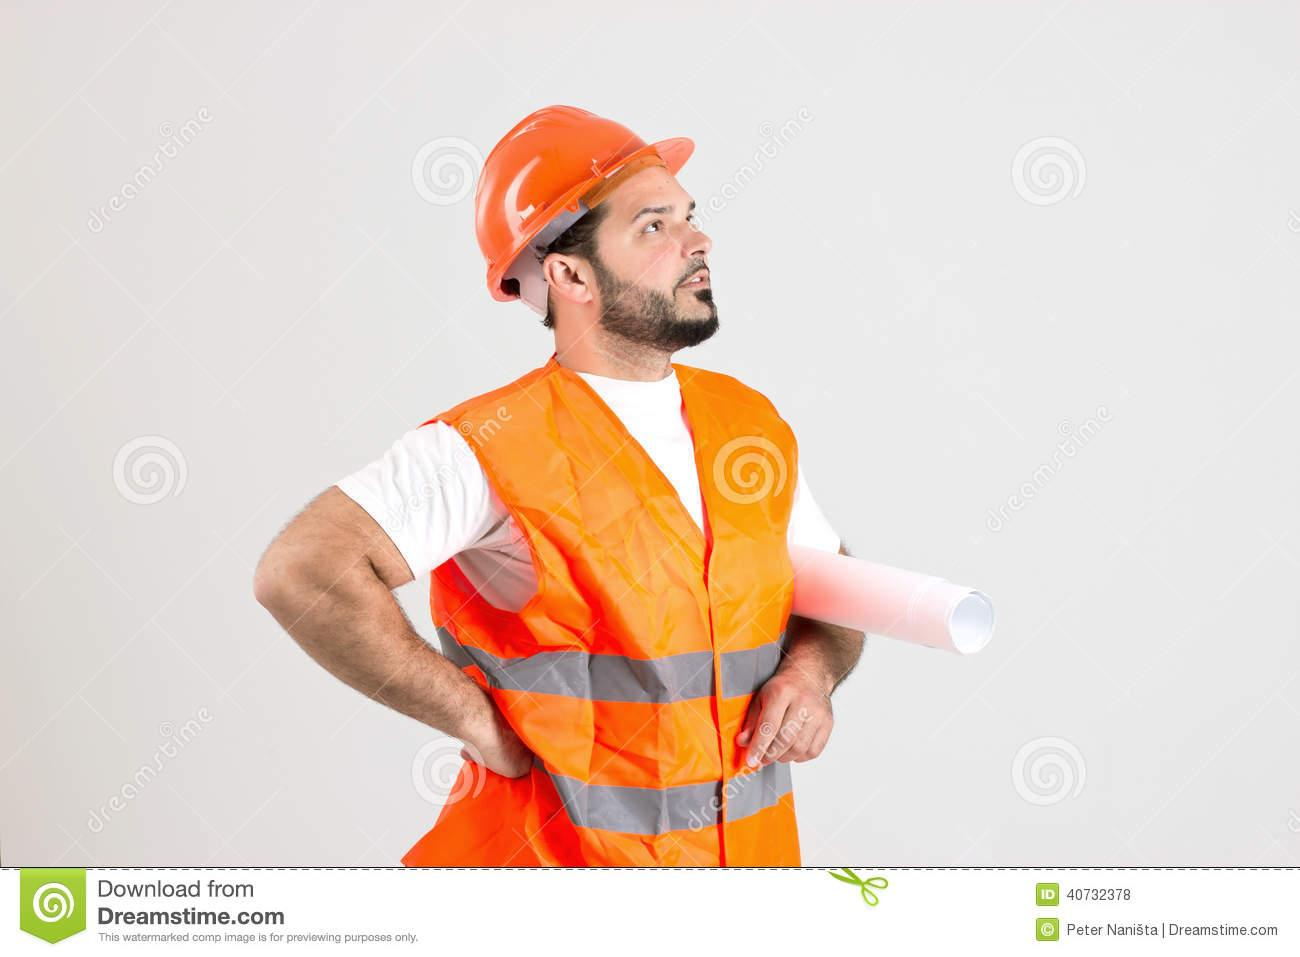helmet: (474, 104, 692, 302)
